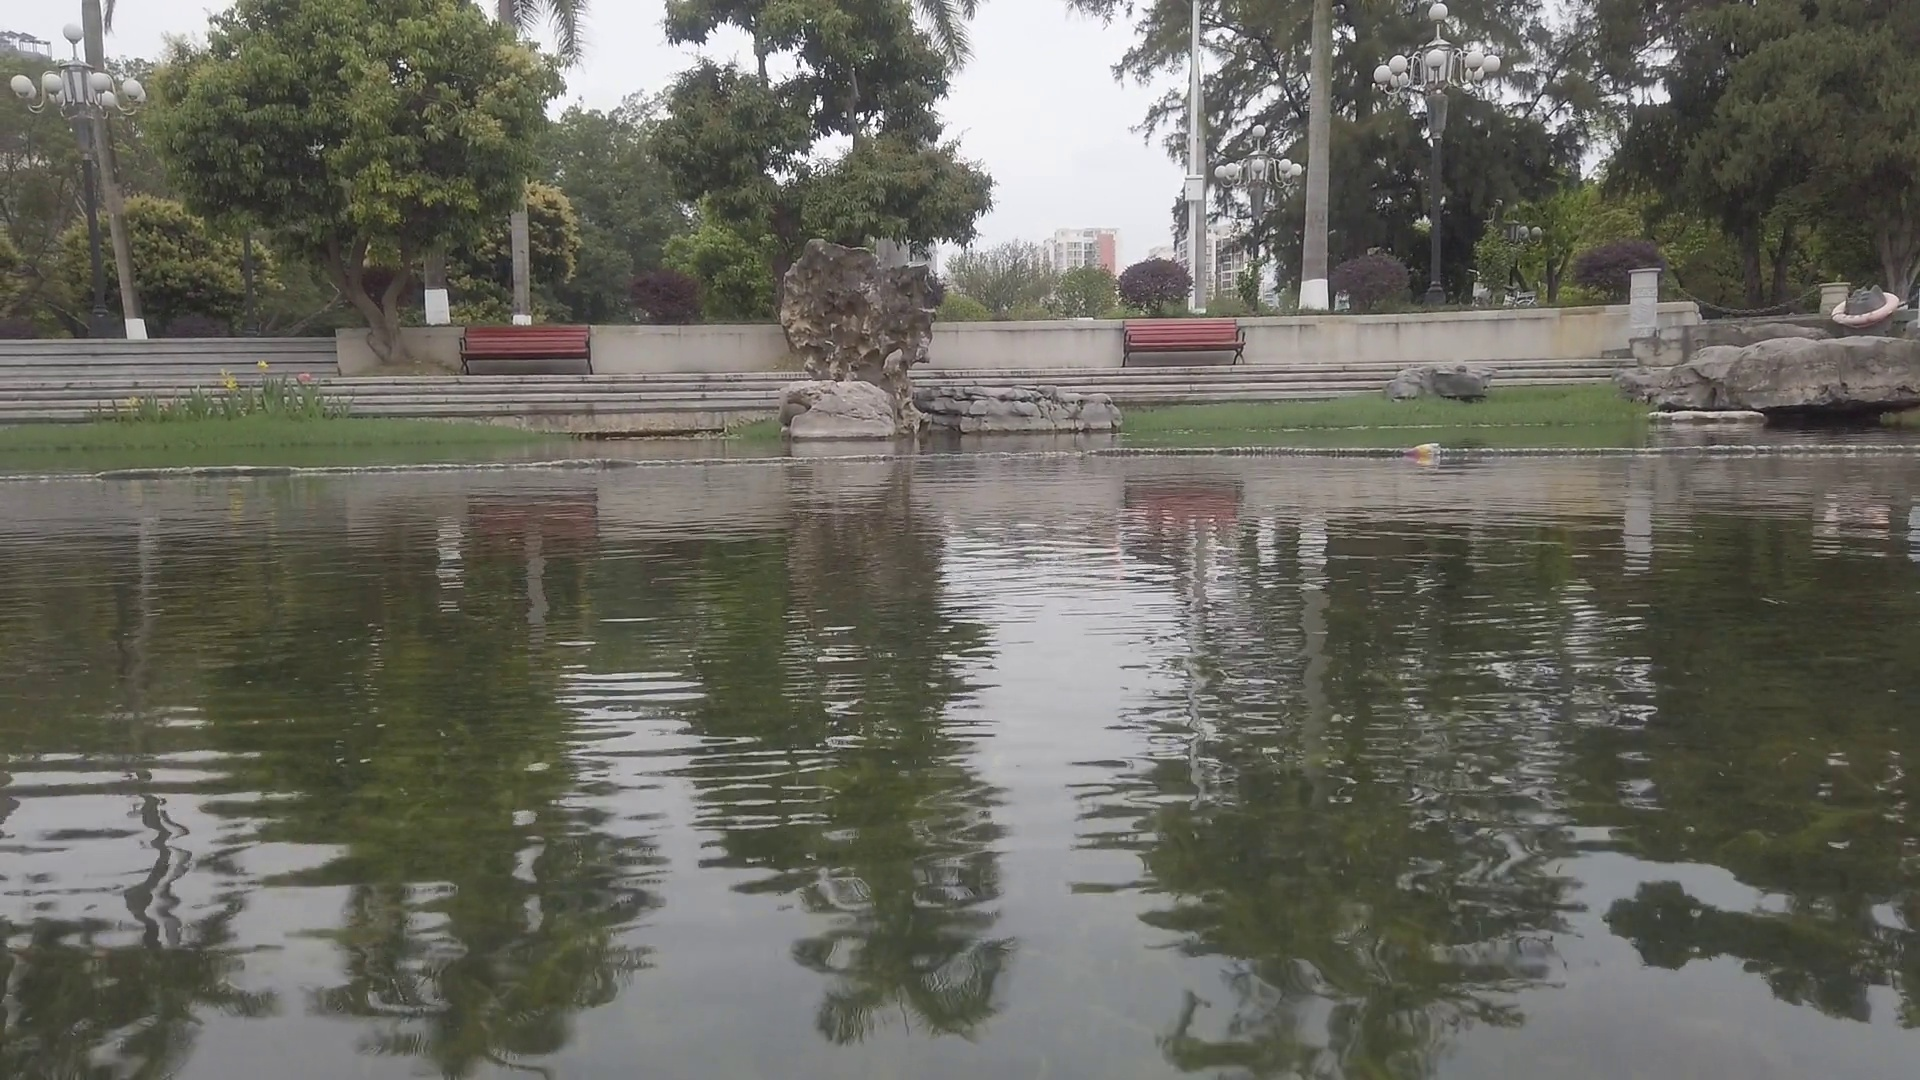bottle: (1395, 443, 1443, 458)
